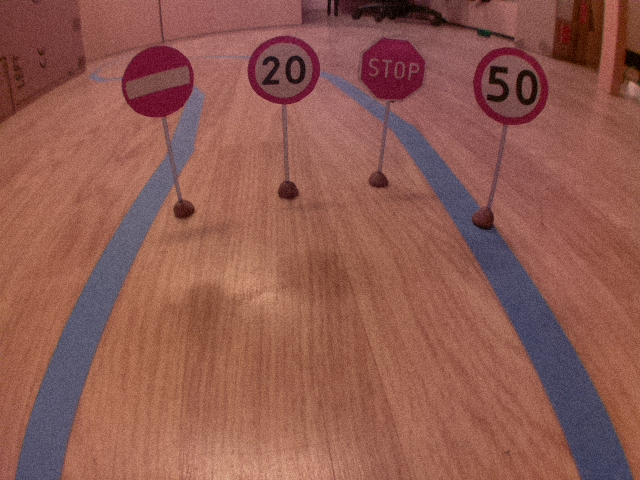ogr_20: (246, 34, 322, 106)
ogr_50: (470, 45, 551, 126)
stop: (356, 35, 427, 105)
zakaz: (119, 44, 196, 120)
